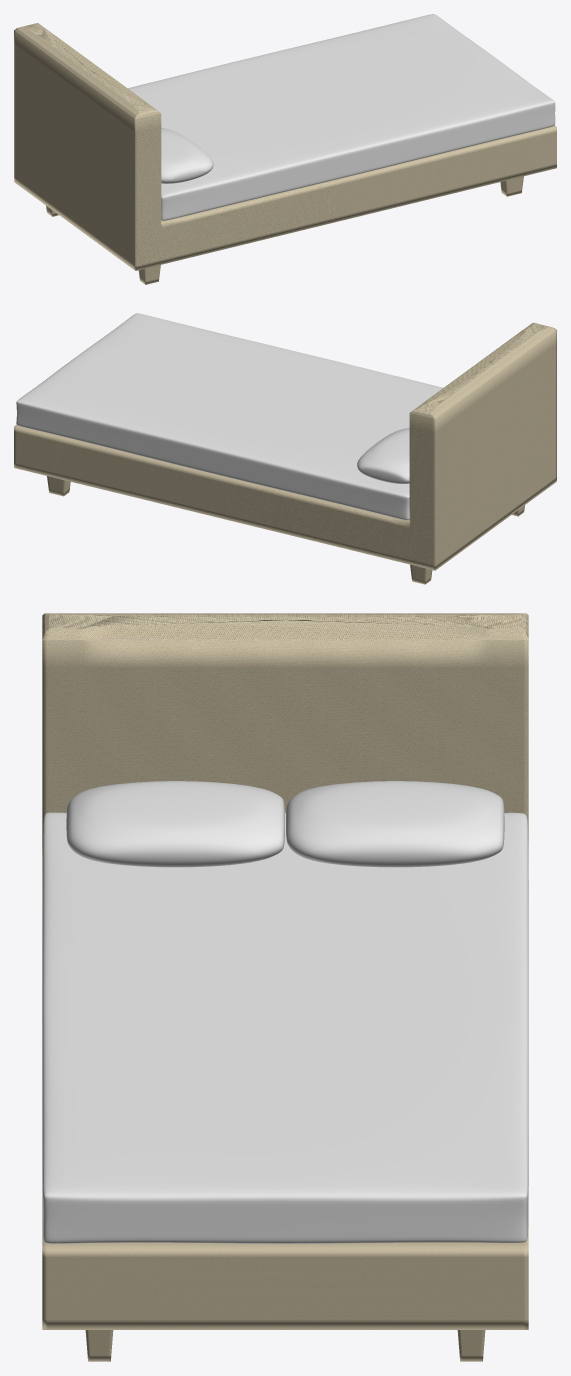
Rendered from a_simple_bed.glb.
3 renders of one model, top to bottom at view 1: azimuth 30°, elevation 25°; view 2: azimuth 150°, elevation 25°; view 3: azimuth 270°, elevation 25°, orthographic. The views are drawn at different scales.
Parts seen in each view (by area): view 1: Cube.001, Cube, Cube.002; view 2: Cube.001, Cube, Cube.003; view 3: Cube.001, Cube, Cube.003, Cube.002.
Part boxes in pixels (x1,y1,x2,y2): Cube.001: (128, 14, 555, 220); Cube: (14, 23, 556, 284); Cube.002: (161, 128, 213, 183); Cube.001: (16, 313, 443, 520); Cube: (14, 322, 556, 584); Cube.003: (357, 428, 409, 483); Cube.001: (42, 812, 528, 1243); Cube: (42, 613, 528, 1361); Cube.003: (286, 781, 504, 867); Cube.002: (66, 781, 284, 867).
Size of the model in its own units: 800 by 333 by 400.
Materials: 4 (1 with a texture image).
